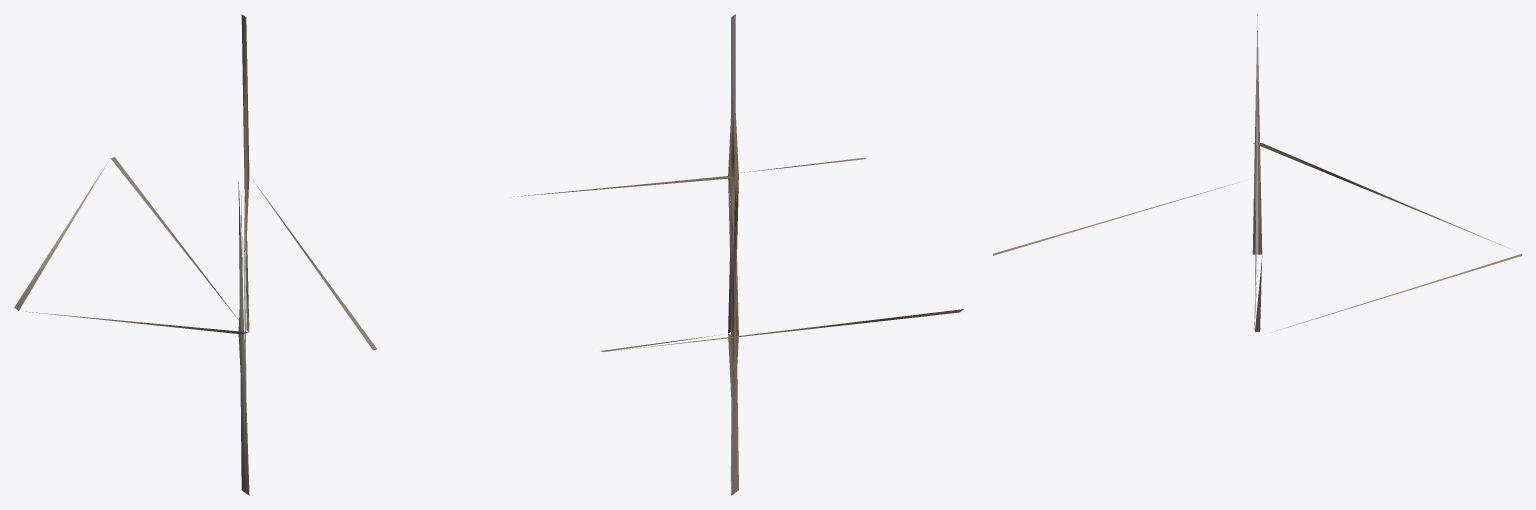
Rendered from equip_weapon_yew_longbow.glb.
3 views of the same model, side by side, from view 1: azimuth 30°, elevation 25°; view 2: azimuth 150°, elevation 25°; view 3: azimuth 270°, elevation 25° (orthographic).
Parts seen in each view (by area): view 1: equip_weapon_yew_longbow; view 2: equip_weapon_yew_longbow; view 3: equip_weapon_yew_longbow.
Part boxes in pixels (x1,y1,x2,y2): equip_weapon_yew_longbow: (14,14,377,495); equip_weapon_yew_longbow: (510,14,963,495); equip_weapon_yew_longbow: (993,14,1521,331).
Bounding box in the file's own units: 2 × 2 × 2.
